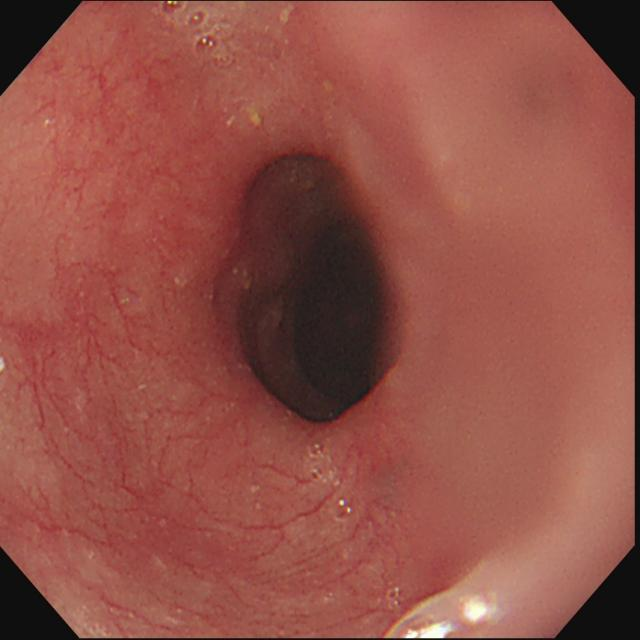E: (199, 139, 415, 439)
T: (161, 2, 235, 72), (307, 443, 353, 525)
U: (403, 595, 495, 640)
